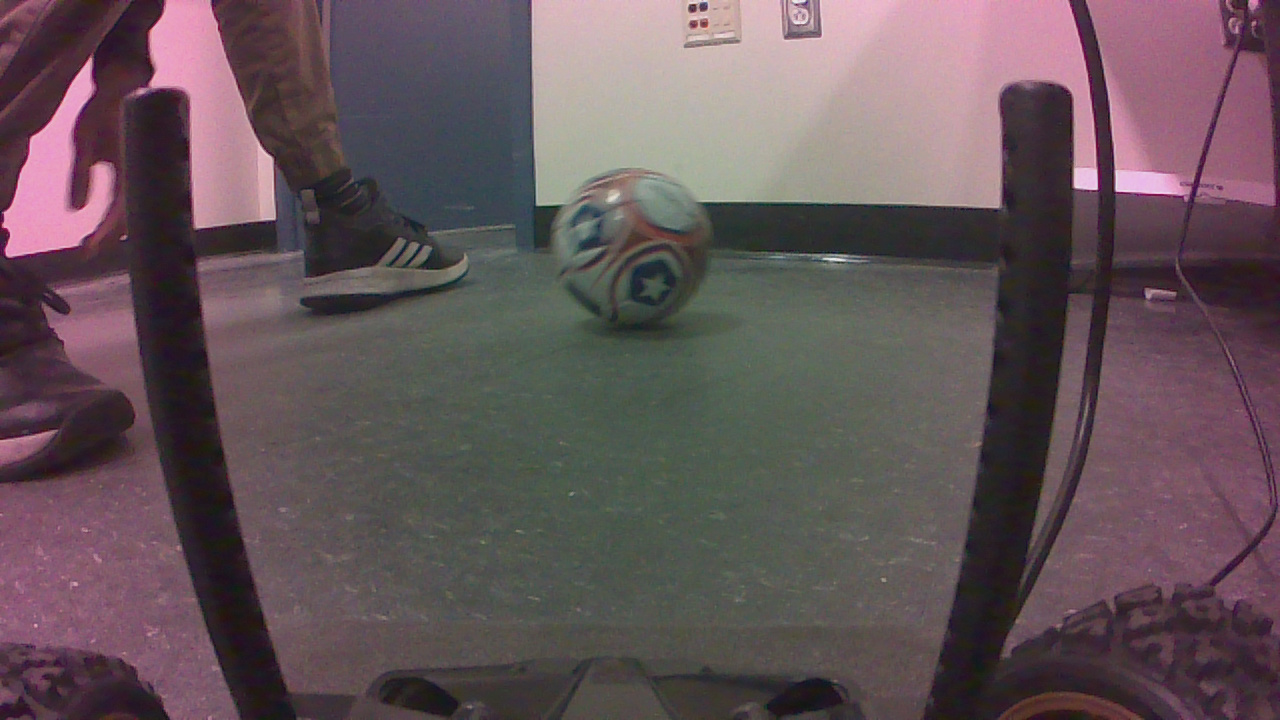ball: (549, 171, 723, 332)
